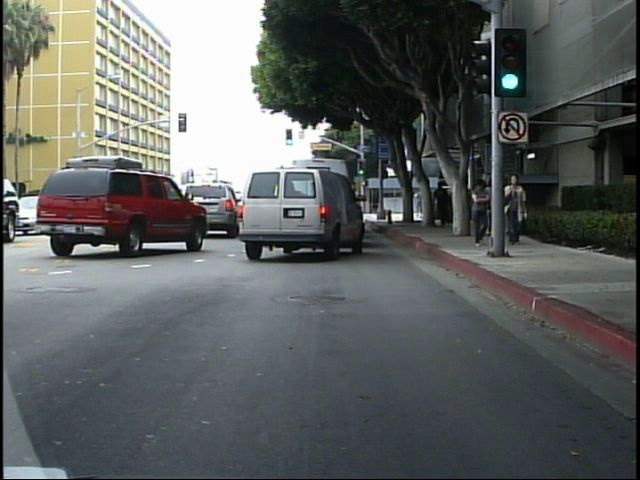person: (503, 170, 531, 254), (482, 174, 505, 250), (503, 172, 525, 244), (470, 174, 490, 244), (433, 175, 455, 230), (412, 185, 424, 217)
